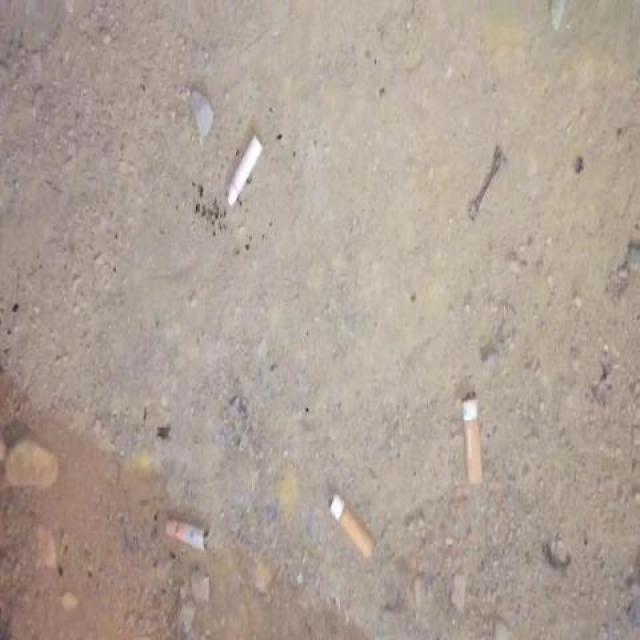non-organic waste: (323, 489, 385, 571), (223, 132, 265, 209), (457, 388, 487, 487), (162, 513, 213, 558)
